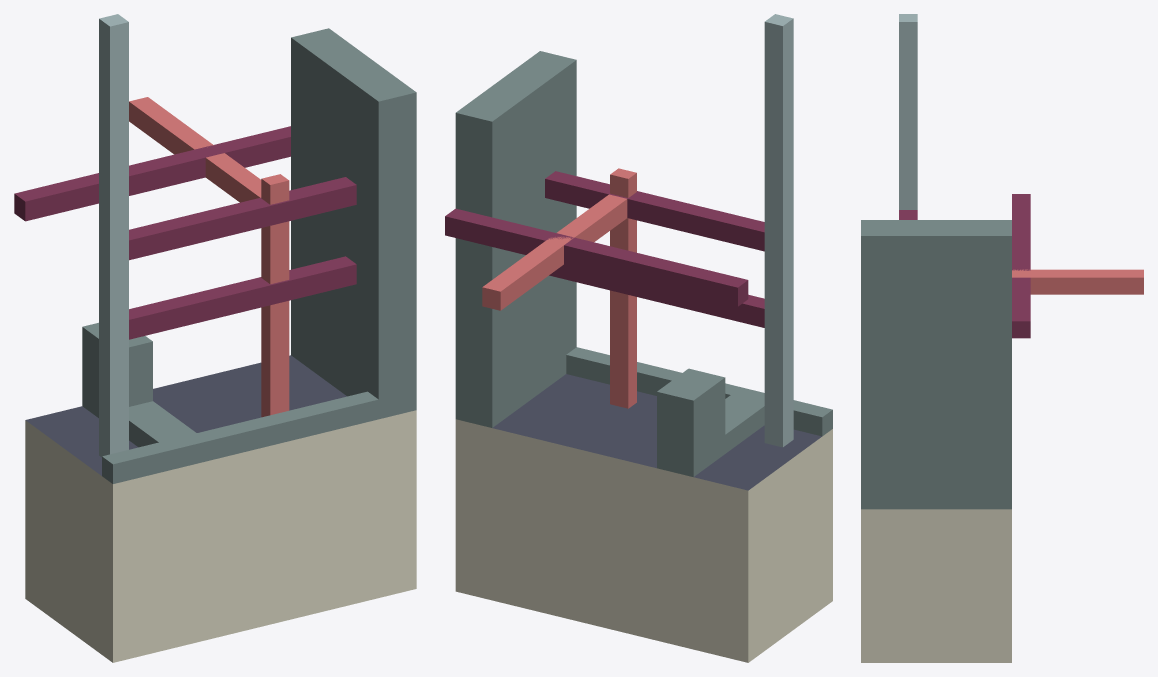
File: Skeleton1.002.fbx
The picture shows the model from 3 angles, left to right: view 1: azimuth 30°, elevation 25°; view 2: azimuth 150°, elevation 25°; view 3: azimuth 270°, elevation 25°; orthographic projection. The views are drawn at different scales.
Parts seen in each view (by area): view 1: Skeleton1.002; view 2: Skeleton1.002; view 3: Skeleton1.002.
Part boxes in pixels (x1,y1,x2,y2): Skeleton1.002: (14,14,416,662); Skeleton1.002: (445,14,832,662); Skeleton1.002: (861,14,1143,662).
Size of the model in its own units: 1600 by 3100 by 1500.
